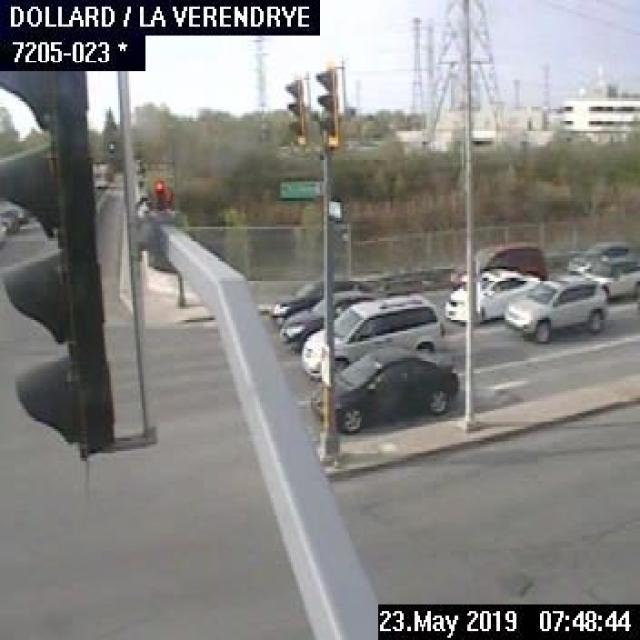vehicle: (297, 290, 446, 378), (308, 344, 458, 431), (501, 272, 609, 342), (277, 288, 393, 352), (444, 268, 540, 328), (272, 275, 383, 324), (444, 239, 544, 288), (561, 239, 638, 281), (580, 253, 638, 300), (1, 205, 18, 232)
